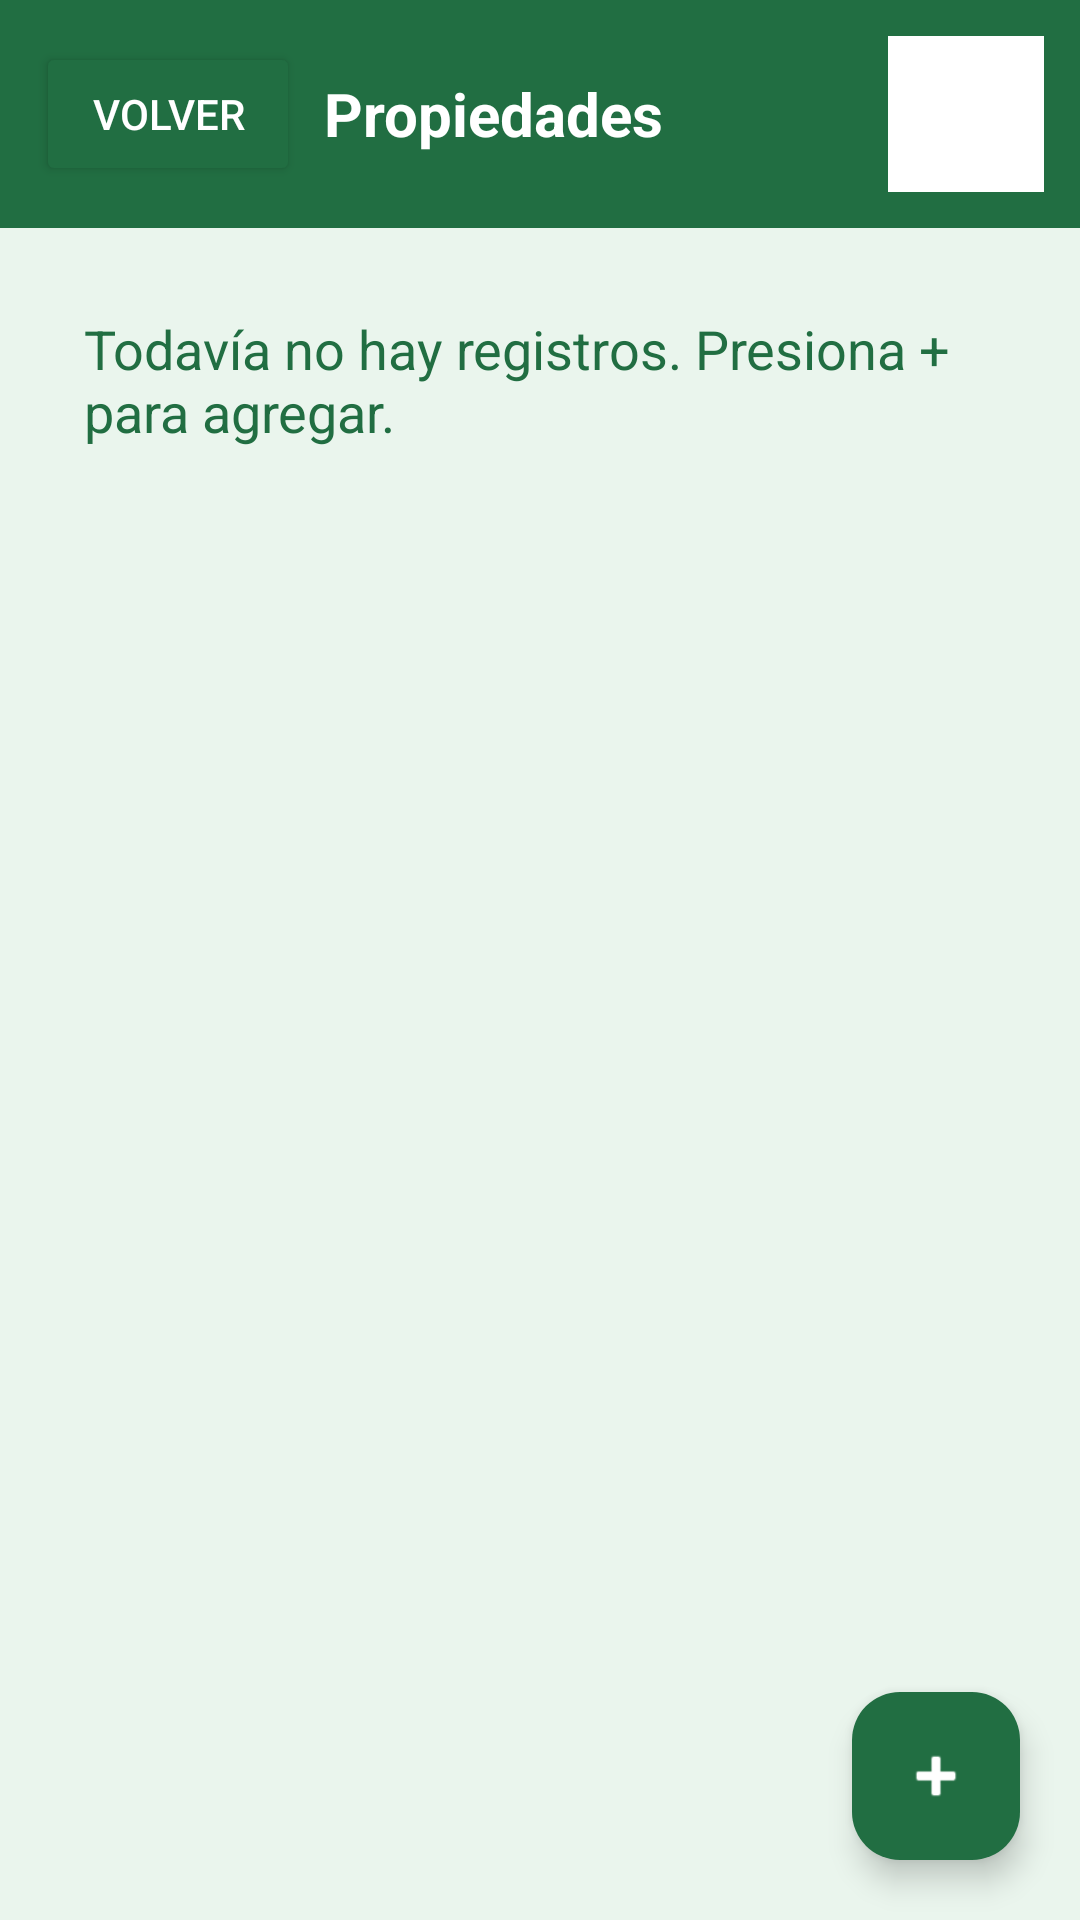

Where to tap for icons on this 1080x1920 app screen, as [x,y]:
Agregar registro: [936,1776]
